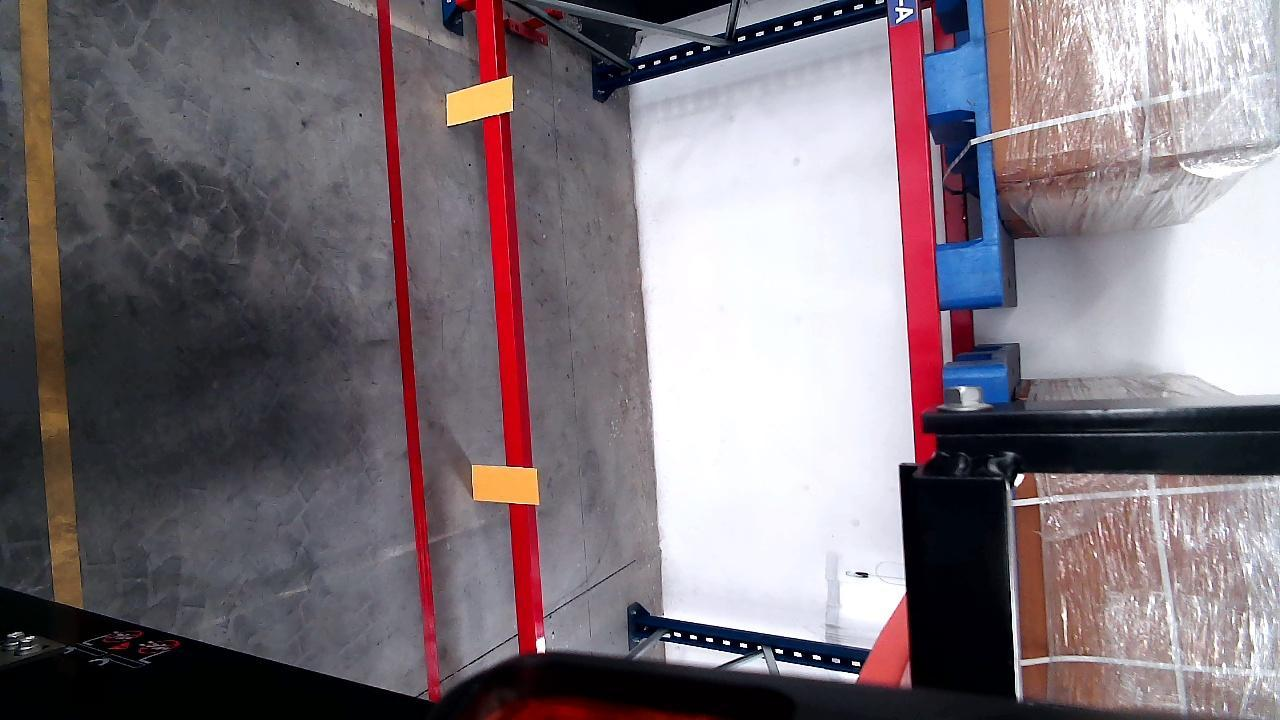red_line: (375, 0, 435, 700)
yellow_line: (19, 0, 81, 608)
